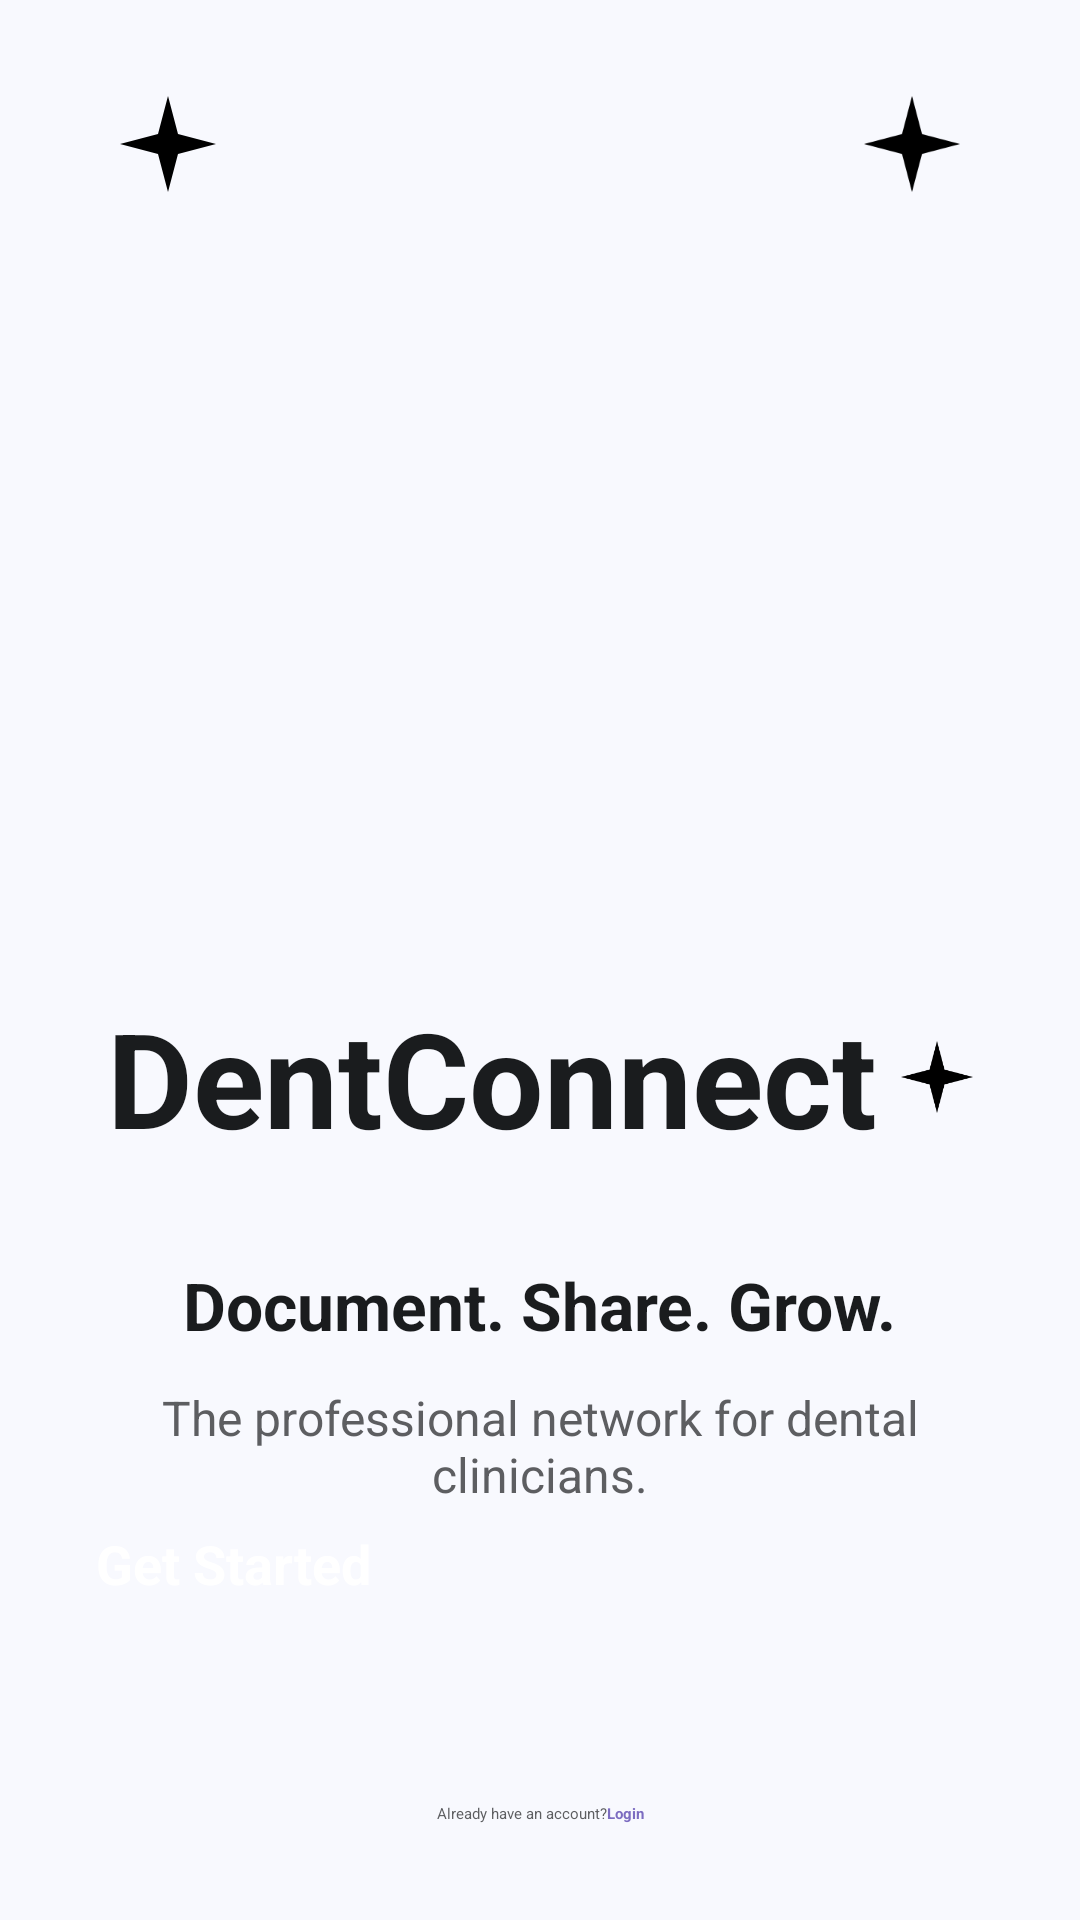

Screen size 1080x1920. Icon name, then its center in pixels as (x,y):
sparkle: (168,144), (912,144), (937,1077)
